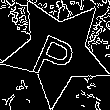P_NE: (30, 20, 83, 82)
